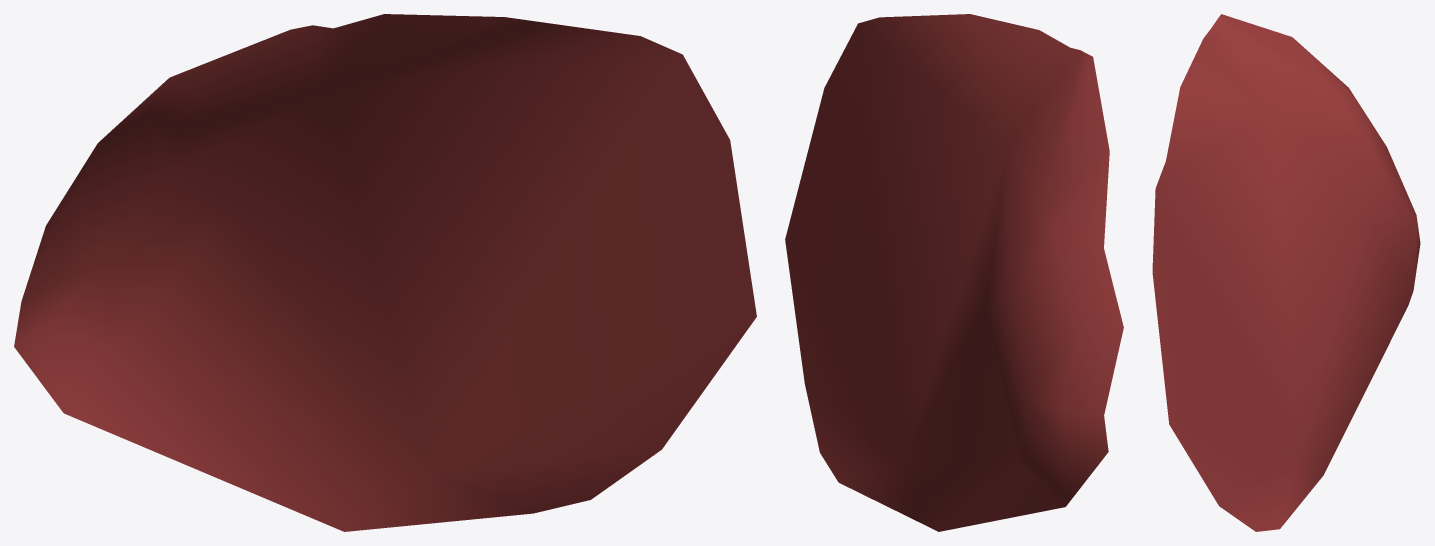
The model's file is superior-gemellus-muscle-ol.glb.
3 views of the same model, side by side, from view 1: azimuth 30°, elevation 25°; view 2: azimuth 150°, elevation 25°; view 3: azimuth 270°, elevation 25° (orthographic). The views are drawn at different scales.
Parts seen in each view (by area): view 1: Superior gemellus muscle.ol; view 2: Superior gemellus muscle.ol; view 3: Superior gemellus muscle.ol.
Part boxes in pixels (<box>): Superior gemellus muscle.ol: <box>14,14,756,531</box>; Superior gemellus muscle.ol: <box>785,14,1123,531</box>; Superior gemellus muscle.ol: <box>1152,14,1420,531</box>.
Size of the model in its own units: 0.0133 by 0.0129 by 0.00746.
